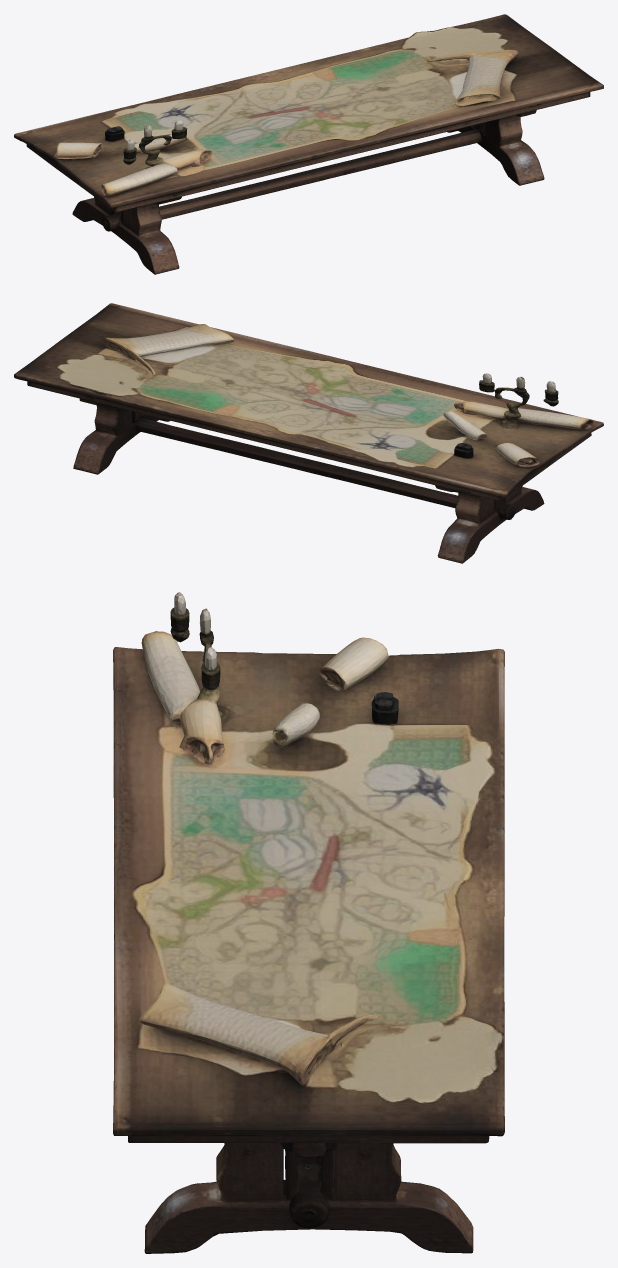
Rendered from council_table.glb.
The picture shows the model from 3 angles, top to bottom: view 1: azimuth 30°, elevation 25°; view 2: azimuth 150°, elevation 25°; view 3: azimuth 270°, elevation 25°; orthographic projection. The views are drawn at different scales.
Parts seen in each view (by area): view 1: geometry_0; view 2: geometry_0; view 3: geometry_0.
Part boxes in pixels (x1,y1,x2,y2): geometry_0: (14, 14, 603, 274); geometry_0: (14, 303, 603, 563); geometry_0: (113, 592, 504, 1253).
Bounding box in the file's own units: 3.2 × 0.85 × 1.1.
1 material, 1 textured.
